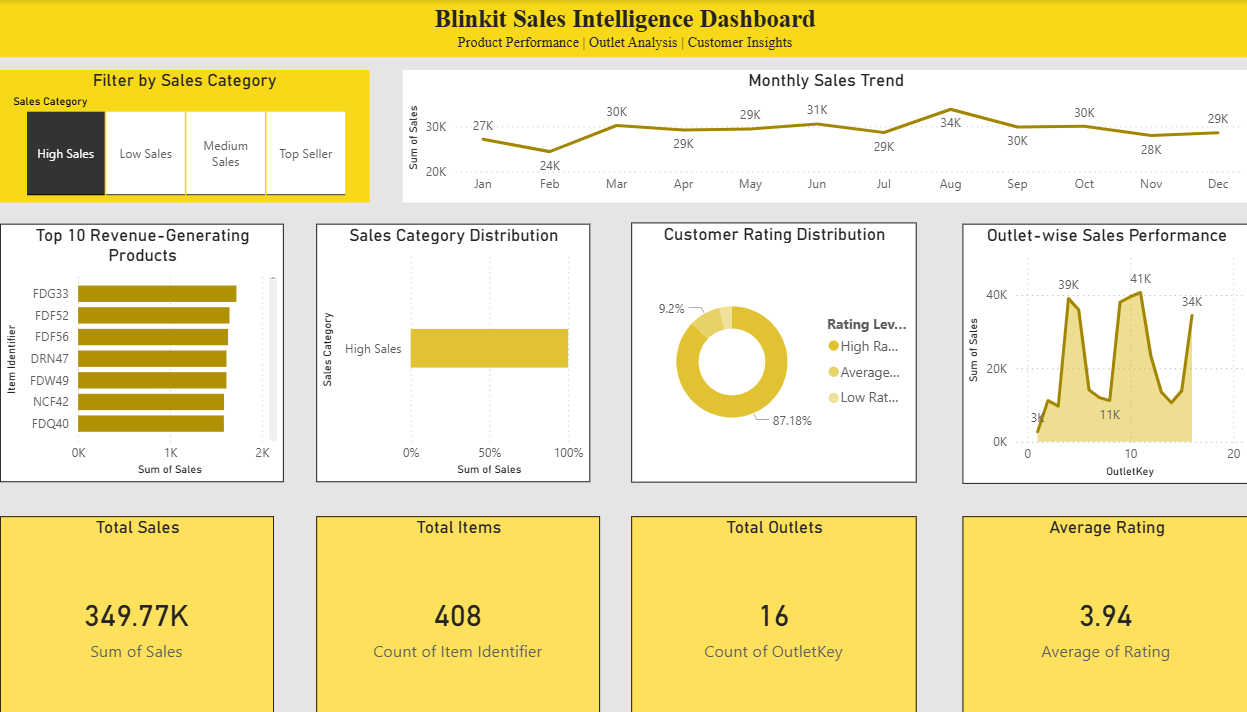

The dashboard page shown, as its layout file describes it:
{"tool":"powerbi","page":{"name":"Page 1","canvas":[1280,720],"ordinal":0},"visuals":[{"type":"card","title":"Total Sales","fields":{"Values":["Sum(blinkit_cleaned_data.Sales)"]},"box":[9.8,505,267.8,194.4],"z":0},{"type":"card","title":"Total Items","fields":{"Values":["Count(blinkit_cleaned_data.Item Identifier)"]},"box":[319.2,505,277.6,194.4],"z":1000},{"type":"card","title":"Total Outlets","fields":{"Values":["Count(blinkit_cleaned_data.OutletKey)"]},"box":[627.3,505.5,279.1,194.5],"z":2000},{"type":"card","title":"Average Rating","fields":{"Values":["Avg(blinkit_cleaned_data.Rating)"]},"box":[951.4,505,281.3,194.4],"z":3000},{"type":"clusteredBarChart","title":"Top 10 Revenue-Generating Products","fields":{"Category":["blinkit_cleaned_data.Item Identifier"],"Y":["Sum(blinkit_cleaned_data.Sales)"]},"box":[9.8,218.9,277.6,253.1],"z":4000},{"type":"areaChart","title":"Outlet-wise Sales Performance","fields":{"Category":["blinkit_cleaned_data.OutletKey"],"Y":["Sum(blinkit_cleaned_data.Sales)"]},"box":[951.4,218.9,281.3,254.3],"z":5000},{"type":"hundredPercentStackedBarChart","title":"Sales Category Distribution","fields":{"Category":["blinkit_cleaned_data.Sales Category"],"Y":["Sum(blinkit_cleaned_data.Sales)"]},"box":[319.2,218.9,267.8,253.1],"z":6000},{"type":"donutChart","title":"Customer Rating Distribution","fields":{"Category":["blinkit_cleaned_data.Rating Level"],"Y":["CountNonNull(blinkit_cleaned_data.Item Identifier)"]},"box":[627.3,217.7,278.8,254.3],"z":7000},{"type":"actionButton","box":[0,0,100,40],"z":8000},{"type":"slicer","title":"Filter by Sales Category","fields":{"Values":["blinkit_cleaned_data.Sales Category"]},"box":[10,68.6,361.4,129.3],"z":9000},{"type":"lineChart","title":"Monthly Sales Trend","fields":{"Category":["blinkit_cleaned_data.Month"],"Y":["Sum(blinkit_cleaned_data.Sales)"]},"box":[403.5,68.5,829.1,129.6],"z":10000},{"type":"textbox","box":[9.8,0,1222.8,56.3],"z":11000}]}

Visuals, with their boxes in screenshot pixels (x1, y1, x2, y2), scaled from the page's 1280x720 canvas onto the 1247x712 screenshot:
"Total Sales" card: [10, 499, 270, 692]
"Total Items" card: [311, 499, 581, 692]
"Total Outlets" card: [611, 500, 883, 692]
"Average Rating" card: [927, 499, 1201, 692]
"Top 10 Revenue-Generating Products" clusteredBarChart: [10, 216, 280, 467]
"Outlet-wise Sales Performance" areaChart: [927, 216, 1201, 468]
"Sales Category Distribution" hundredPercentStackedBarChart: [311, 216, 572, 467]
"Customer Rating Distribution" donutChart: [611, 215, 883, 467]
actionButton: [0, 0, 97, 40]
"Filter by Sales Category" slicer: [10, 68, 362, 196]
"Monthly Sales Trend" lineChart: [393, 68, 1201, 196]
textbox: [10, 0, 1201, 56]
